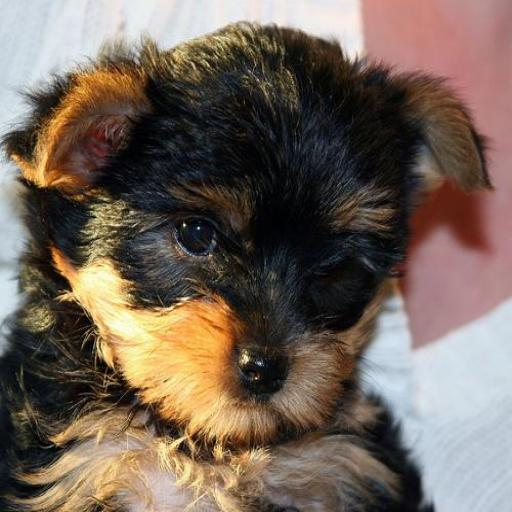dog_face: (24, 37, 486, 408)
